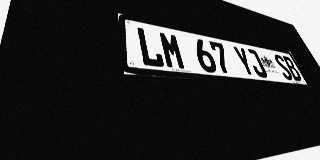6: (191, 37, 219, 73)
7: (208, 41, 234, 75)
B: (281, 55, 303, 81)
J: (244, 48, 269, 78)
L: (135, 26, 165, 68)
M: (158, 31, 187, 70)
S: (272, 54, 295, 81)
Y: (232, 45, 257, 77)
